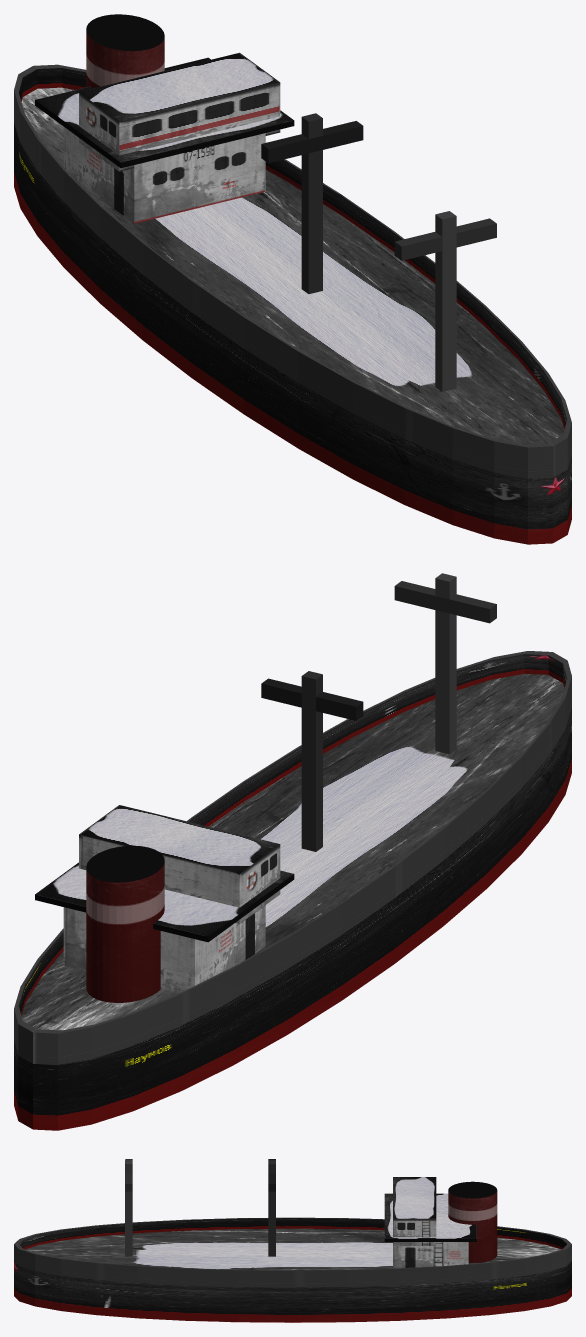
Rendered from ship.fbx.
3 renders of one model, top to bottom at view 1: azimuth 30°, elevation 25°; view 2: azimuth 150°, elevation 25°; view 3: azimuth 270°, elevation 25°, orthographic. The views are drawn at different scales.
Visible parts, largest first — view 1: Цилиндр, Cube.002, Cube, Цилиндр.001, Cube.001, Cube.003, Cube.004, Cube.005, Cube.006; view 2: Цилиндр, Цилиндр.001, Cube.002, Cube, Cube.001, Cube.004, Cube.003, Cube.006, Cube.005; view 3: Цилиндр, Цилиндр.001, Cube.002, Cube.001, Cube, Cube.003, Cube.004.
Boxes of the visible parts, box(x1,y1,x2,y2) form: Цилиндр: box(14, 64, 571, 544); Cube.002: box(79, 52, 280, 171); Cube: box(63, 127, 265, 223); Цилиндр.001: box(86, 14, 164, 88); Cube.001: box(35, 57, 294, 168); Cube.003: box(435, 211, 456, 391); Cube.004: box(301, 113, 322, 293); Cube.005: box(261, 121, 363, 163); Cube.006: box(394, 218, 496, 260); Цилиндр: box(14, 651, 571, 1130); Цилиндр.001: box(86, 845, 164, 1002); Cube.002: box(79, 805, 280, 923); Cube: box(63, 905, 265, 993); Cube.001: box(35, 862, 294, 942); Cube.004: box(301, 671, 322, 851); Cube.003: box(435, 573, 456, 754); Cube.006: box(394, 581, 496, 623); Cube.005: box(261, 678, 363, 720); Цилиндр: box(14, 1217, 571, 1322); Цилиндр.001: box(448, 1181, 497, 1262); Cube.002: box(393, 1177, 436, 1245); Cube.001: box(384, 1193, 476, 1241); Cube: box(393, 1242, 468, 1268); Cube.003: box(125, 1160, 132, 1256); Cube.004: box(268, 1160, 275, 1256).
Size of the model in its own units: 438 by 515 by 1942.
9 materials, 5 textured.
